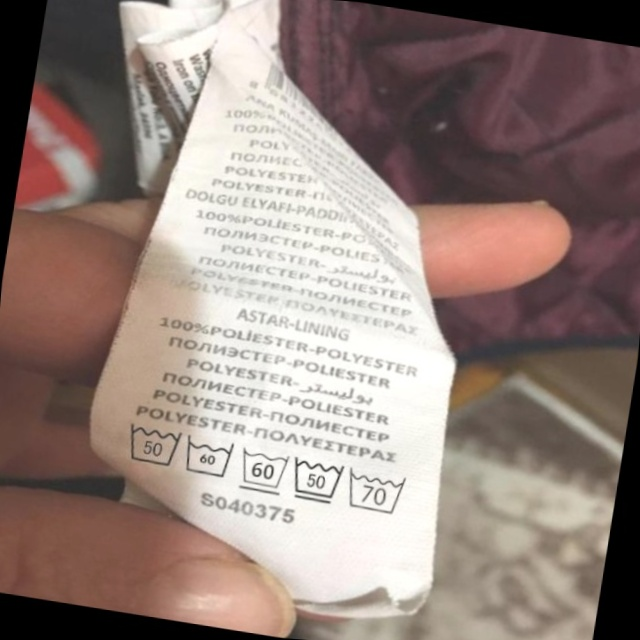50C: (117, 413, 189, 475), (285, 451, 350, 510)
60C: (234, 441, 296, 499), (178, 429, 241, 486)
70C: (342, 463, 415, 520)
